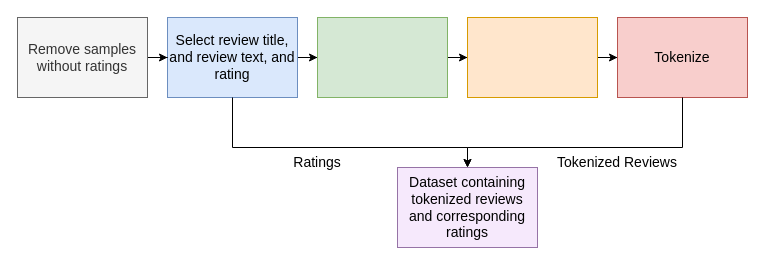
This 765x265 diagram has some shape labels left out. The centre of each missing label's shape, as x and y in pixels:
"Concatenate review title and review text" goes at point (382, 57).
"Truncate each review to a maximum length of 512 words" goes at point (532, 57).
